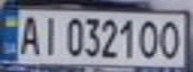0: (63, 14, 84, 57)
1: (118, 16, 139, 58)
2: (100, 16, 121, 60)
3: (81, 15, 103, 58)
A: (15, 11, 42, 56)
I: (36, 12, 60, 56)
O: (157, 17, 187, 61), (136, 17, 163, 60)
